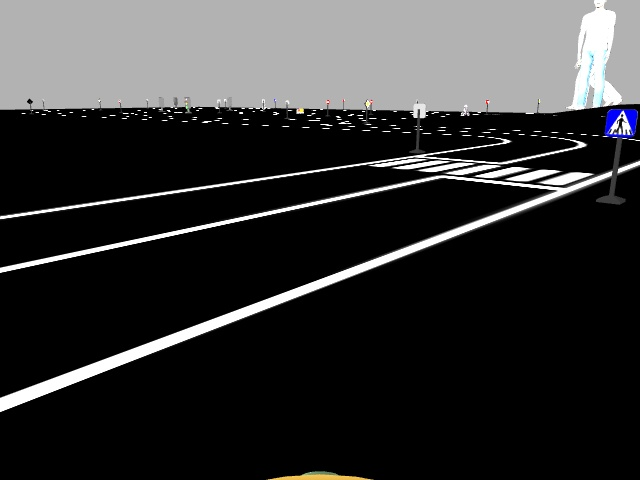Crosswalk: (604, 108, 637, 137)
